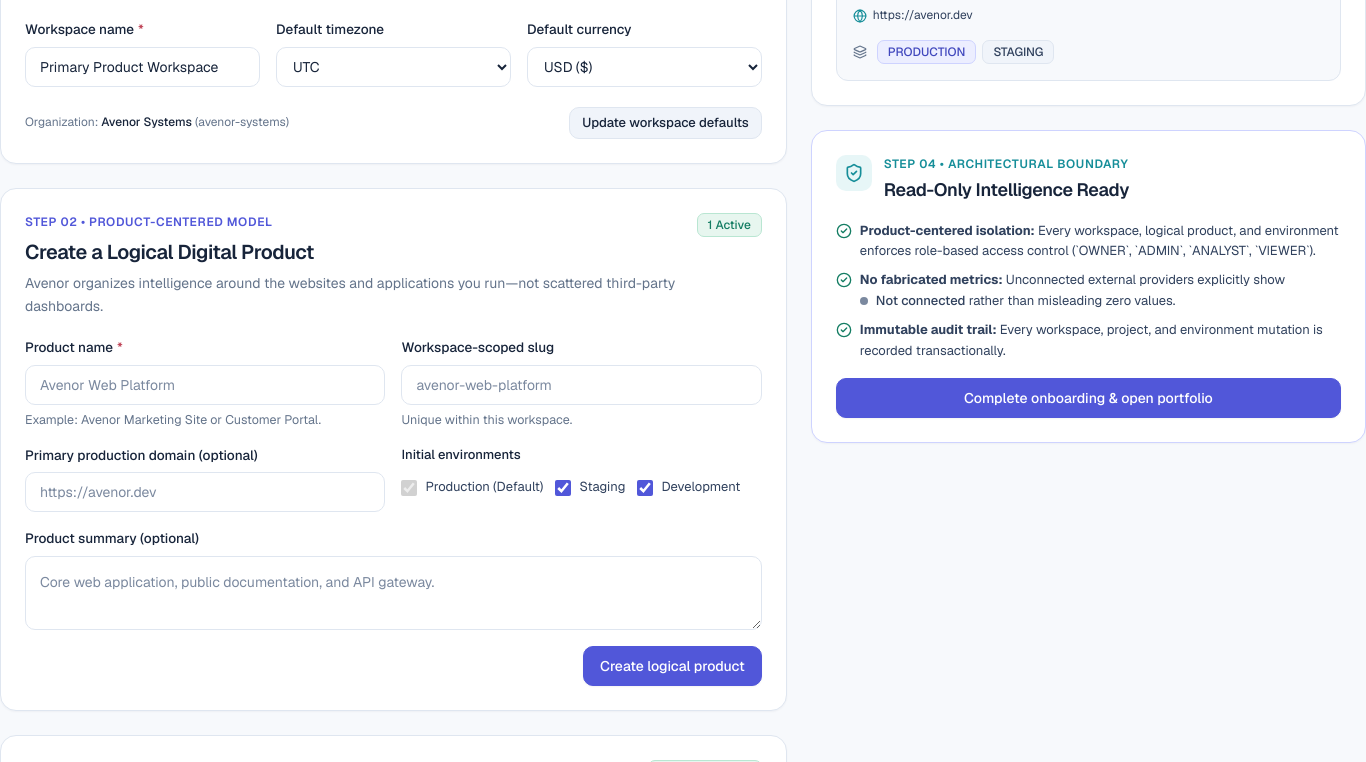
Test case: THE-116: Responsive Application Shell, Onboarding Flow, and Projects Directory › renders OnboardingFlow with 4-step progress indicator and auto-slug generation
(page scrolled)
Type "Analytics Cloud Suite" into the field with test id "onboarding-project-name-input" at (205, 384), box [25,364,385,404]
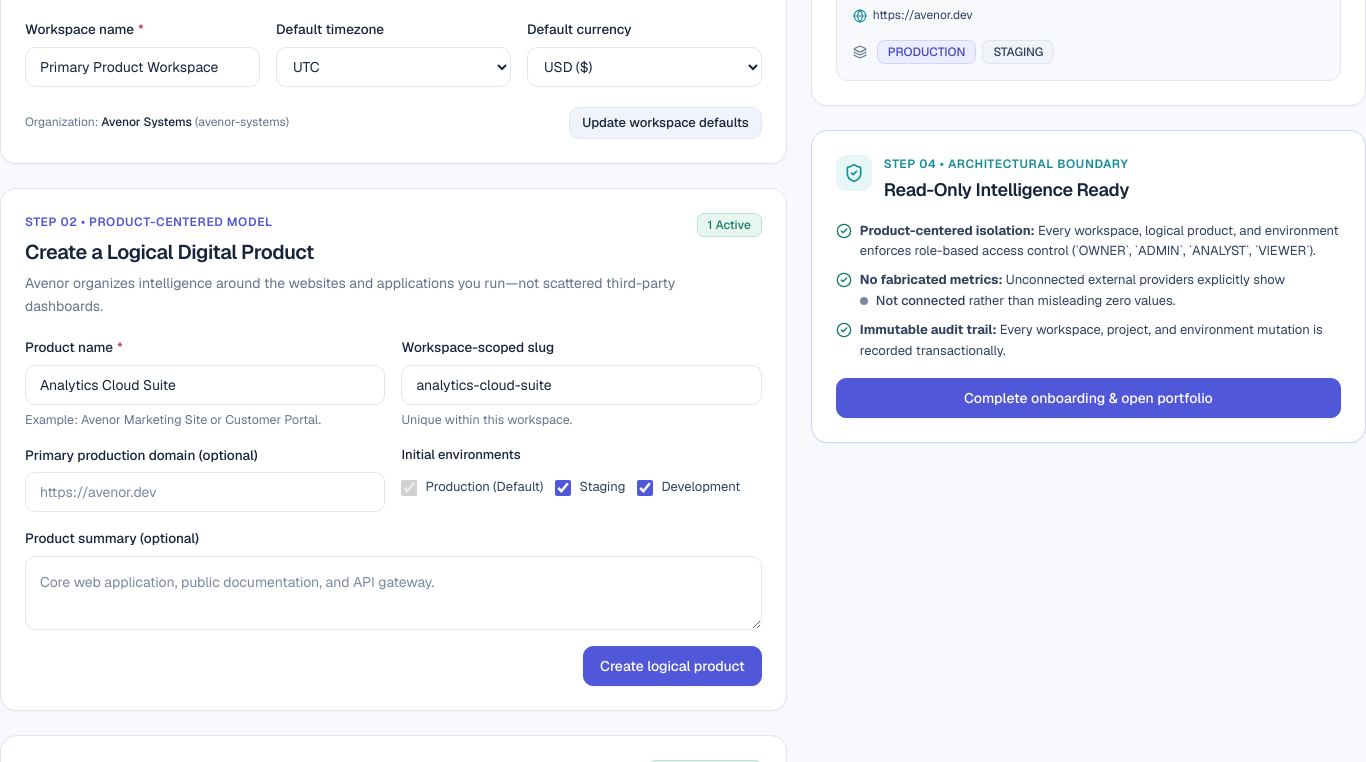
Expected: the field with test id "onboarding-project-slug-input" holds "analytics-cloud-suite", [401,364,762,404]
